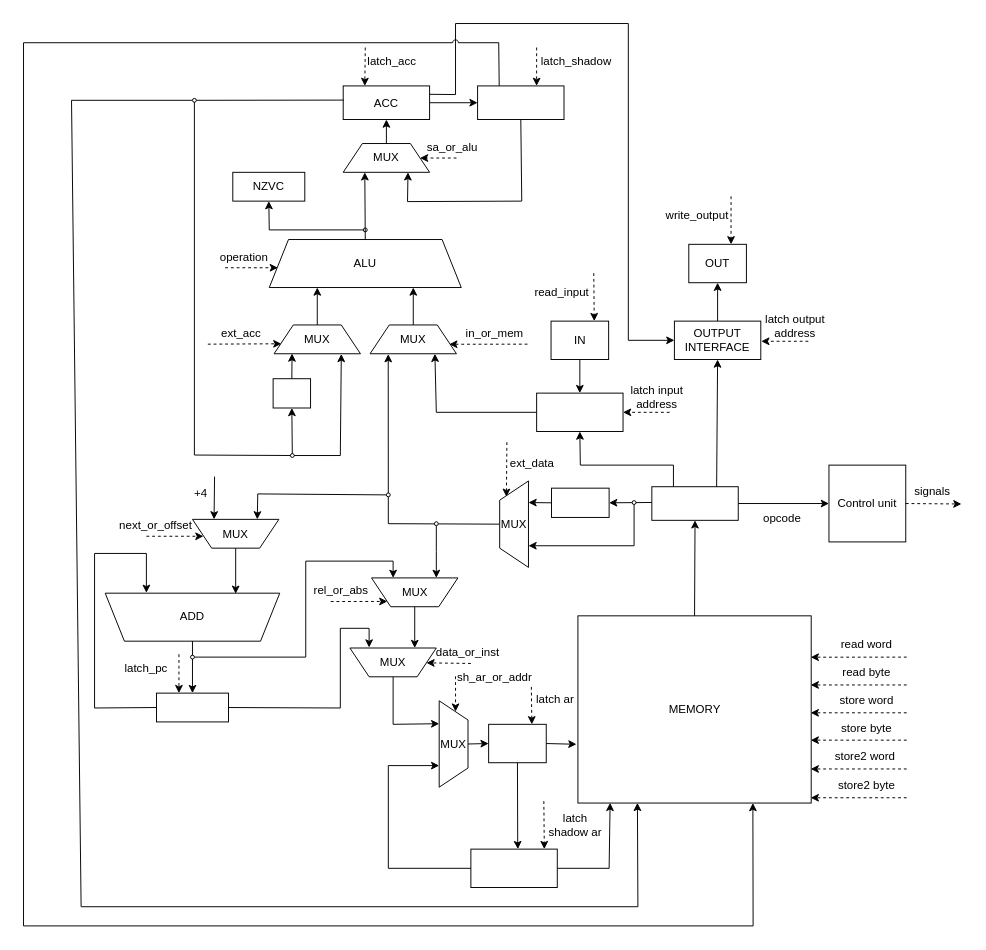
The diagram is 986 pixels wide and 950 high, and some of its shapes have lost their labels. Here are the shapes that lost their labels. From the top down, the centre of each, then its label:
At (x=520, y=102): "SHADOW_ACC".
At (x=291, y=393): "sign extend".
At (x=579, y=412): "INPUT INTERFACE".
At (x=580, y=502): "imm sign extend".
At (x=694, y=503): "DR".
At (x=192, y=707): "PC".
At (x=517, y=743): "AR".
At (x=513, y=868): "SHADOW_AR".
